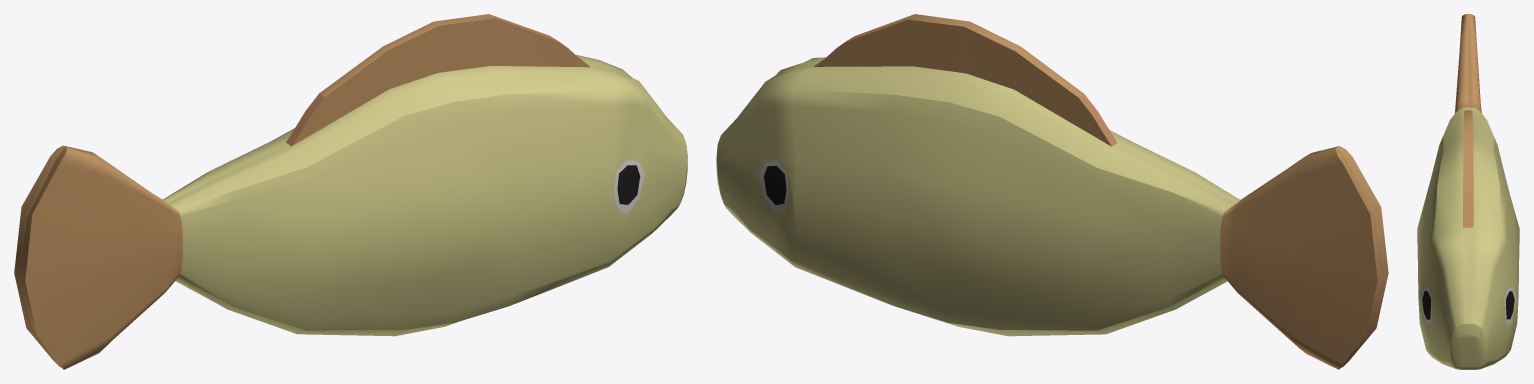
File: atoll_fish_3.fbx
3 views of the same model, side by side, from view 1: azimuth 30°, elevation 25°; view 2: azimuth 150°, elevation 25°; view 3: azimuth 270°, elevation 25° (orthographic). The views are drawn at different scales.
Parts seen in each view (by area): view 1: fish2; view 2: fish2; view 3: fish2.
Part boxes in pixels (box(x1,y1,x2,y2)): fish2: box(14, 14, 687, 369); fish2: box(716, 14, 1388, 369); fish2: box(1417, 14, 1519, 369).
Bounding box in the file's own units: 0.2221 × 0.0948 × 0.0417.
